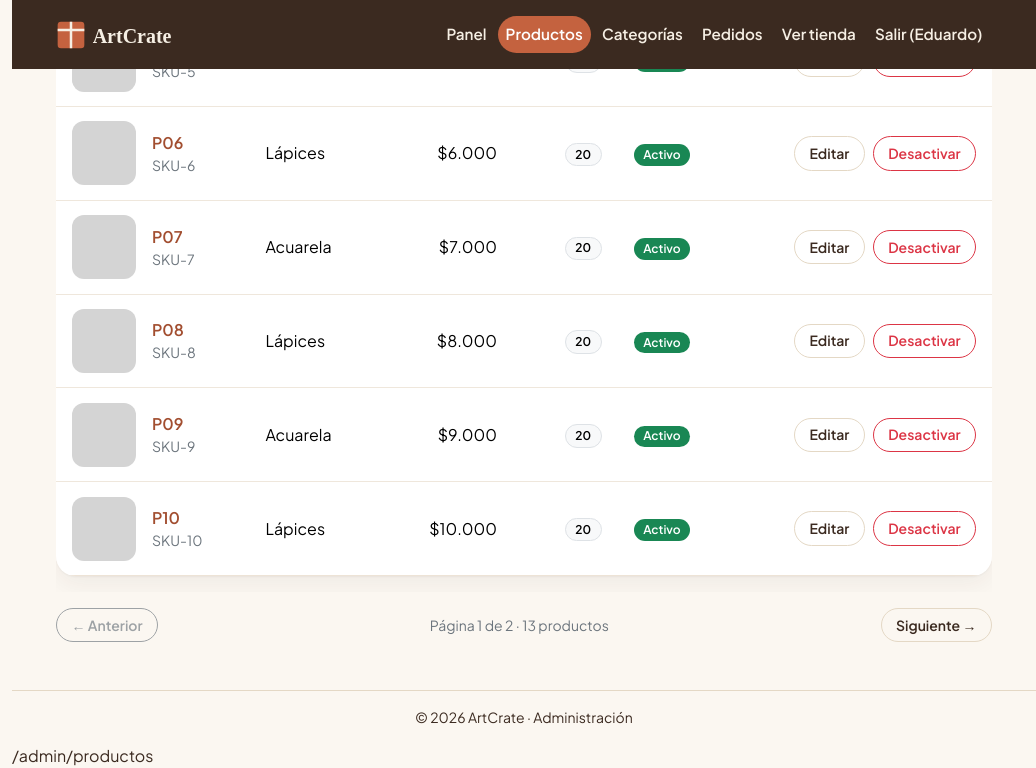
it: Lista de productos del panel › ordenar vuelve a la primera página
(page scrolled)
Click the button "Siguiente →" at (936, 625), box x1=881 y1=608 x2=992 y2=642
(page scrolled)
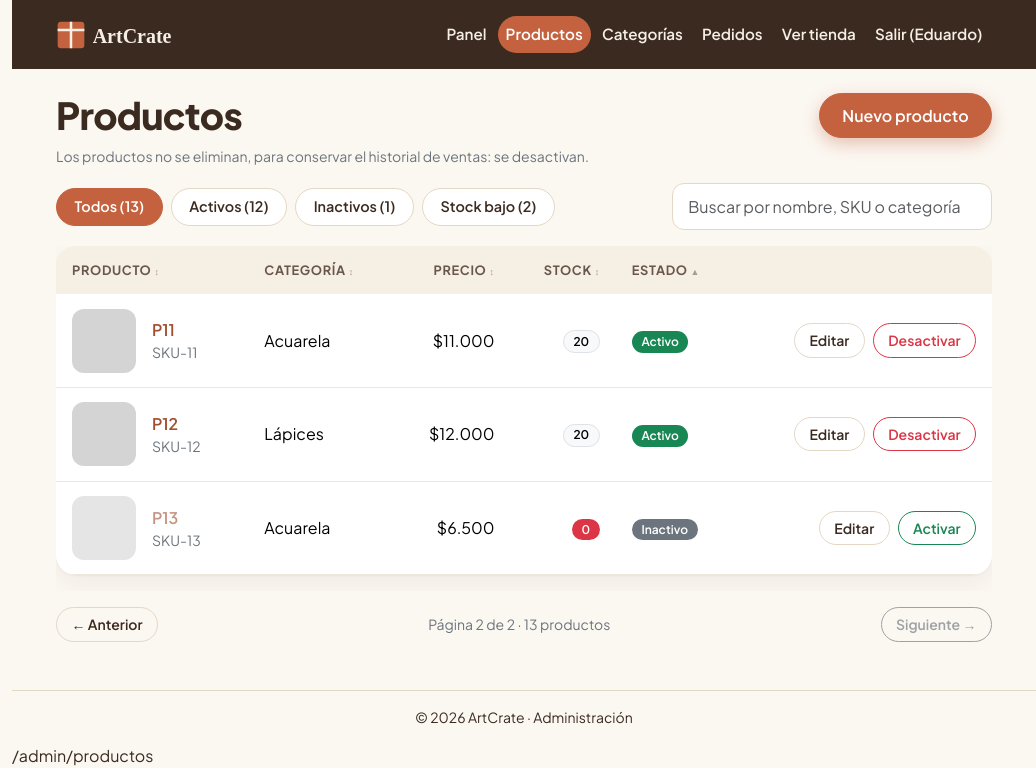
Click the button "Stock ↕" at (572, 270), box x1=544 y1=260 x2=600 y2=280
(page scrolled)
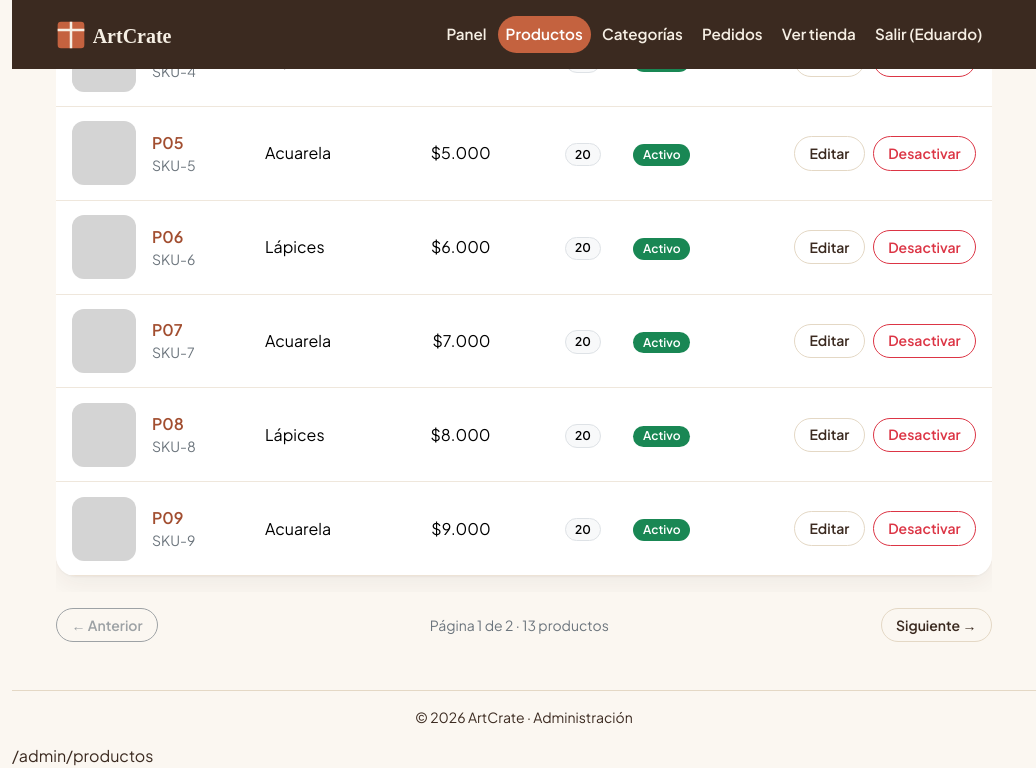
expect the text "Página 1 de 2 · 13 productos" is shown: met, box x1=430 y1=614 x2=609 y2=636
